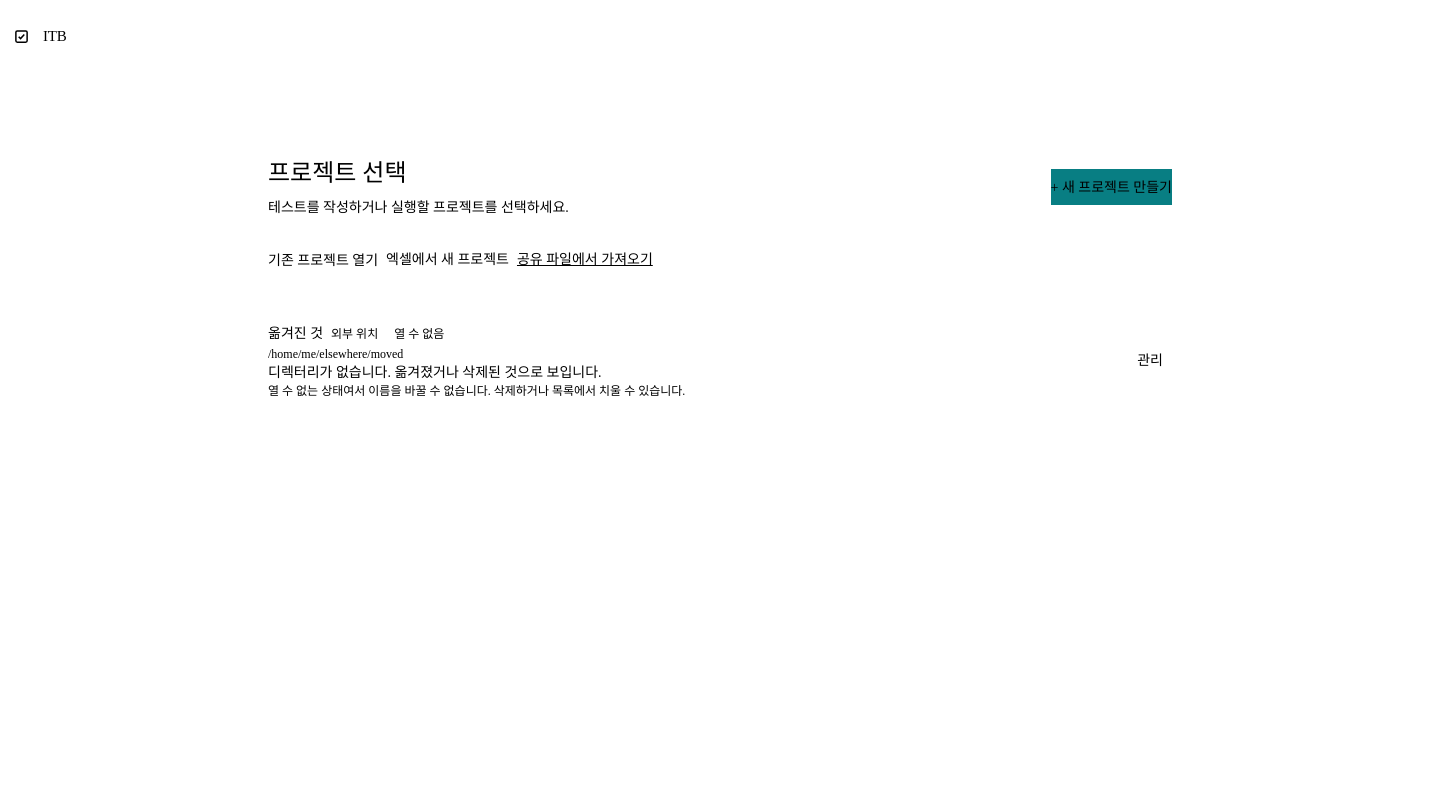
Test: 줄 상태 × 조작 (data-model §3) › 폴더가 이미 없으면 삭제가 그 줄을 목록에서 뺀다 (FR-420 · SC-622)
Click the button "관리" at (1150, 361), box [1128,343,1172,379]
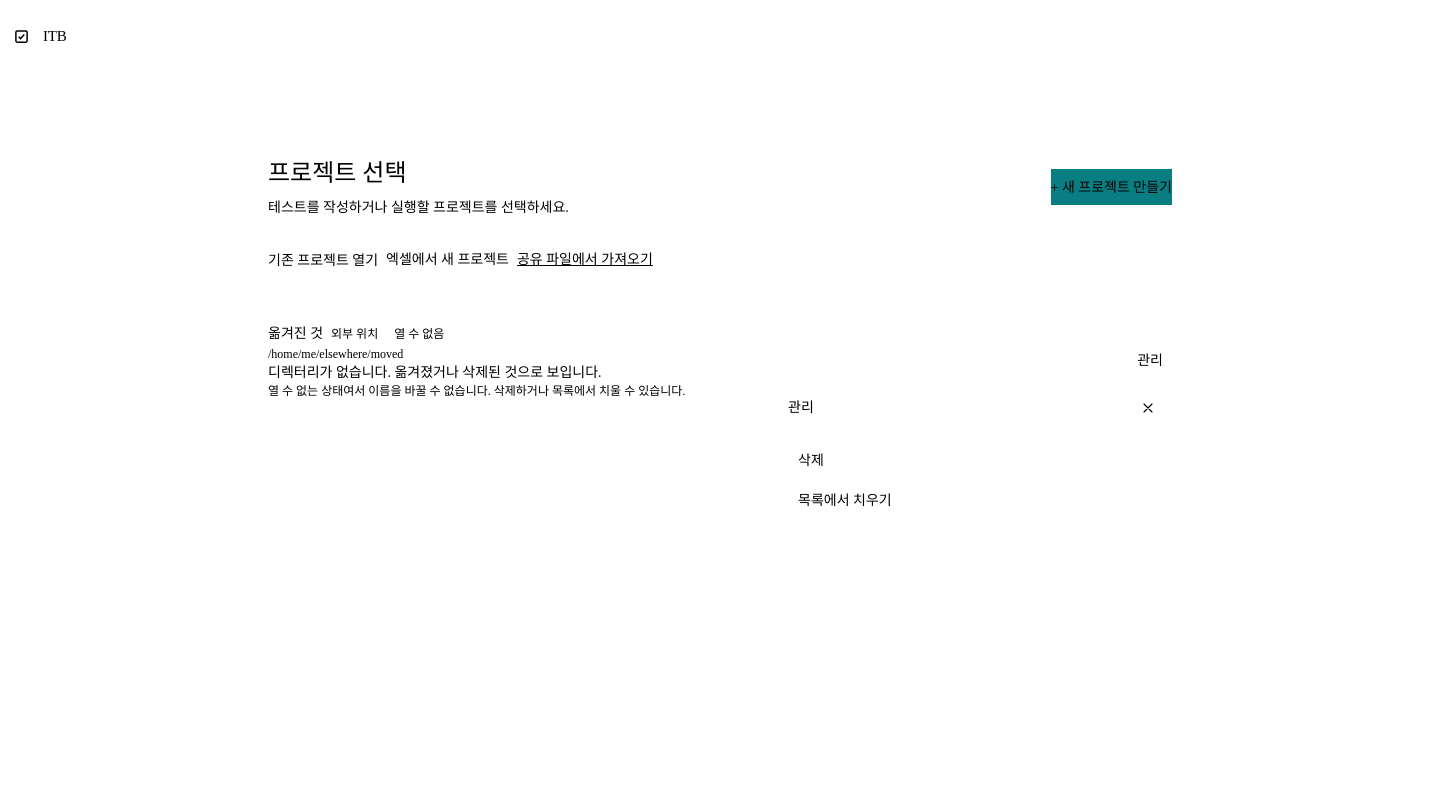
Click the button "삭제" at (811, 460), box [788,446,1156,474]
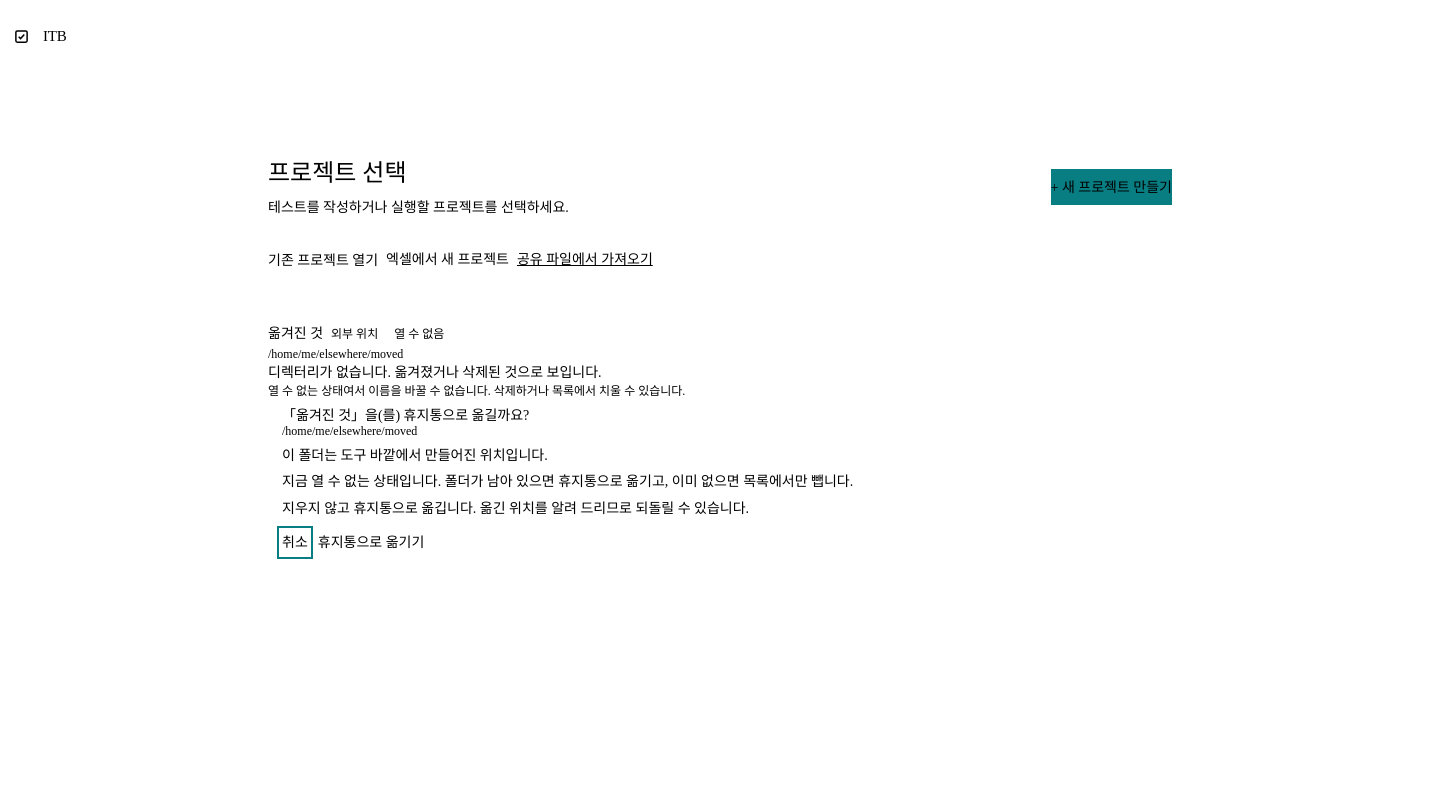
Click the button "휴지통으로 옮기기" at (371, 543), box [318,531,424,554]
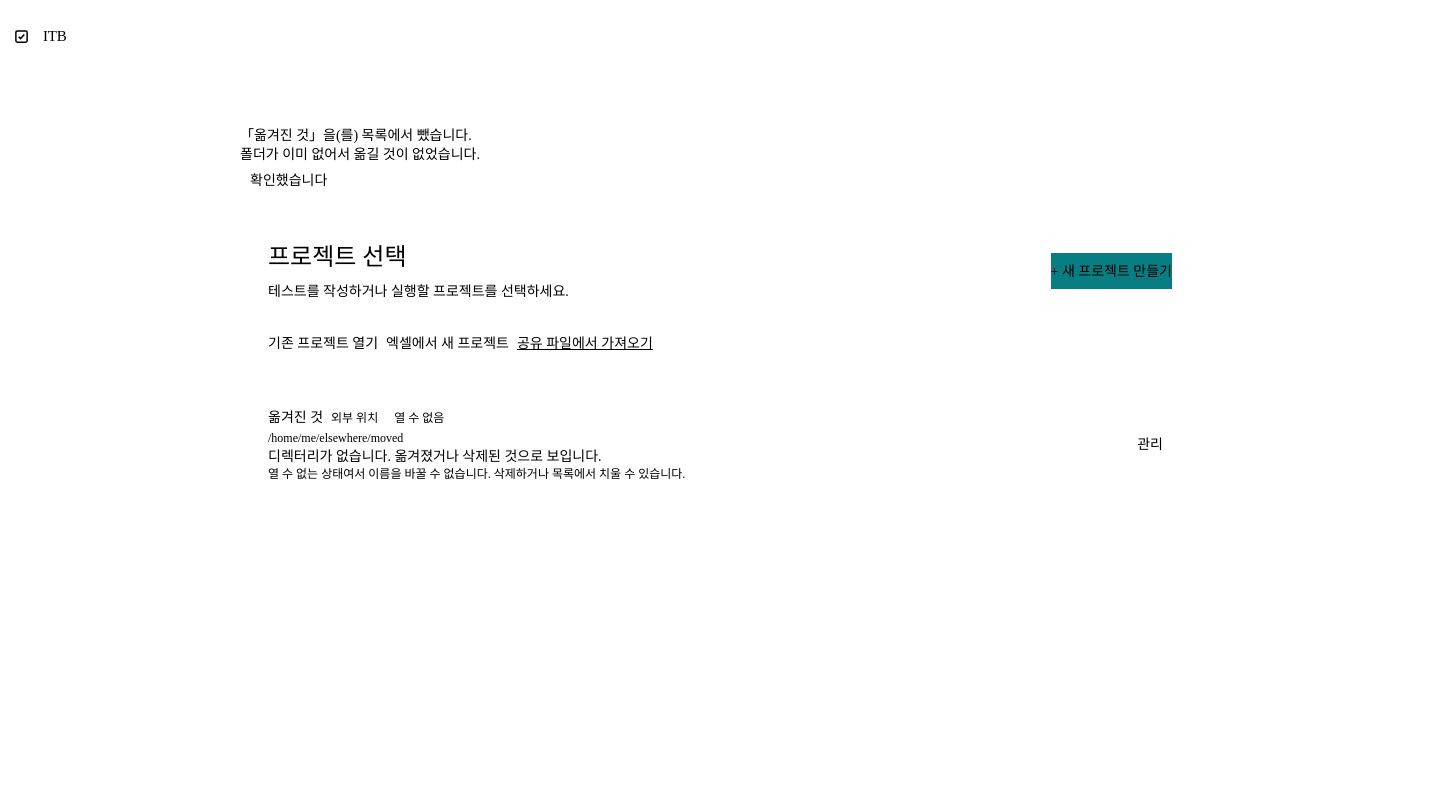
Expected: the text "「옮겨진 것」을(를) 목록에서 뺐습니다." is shown, [240,128,472,143]
